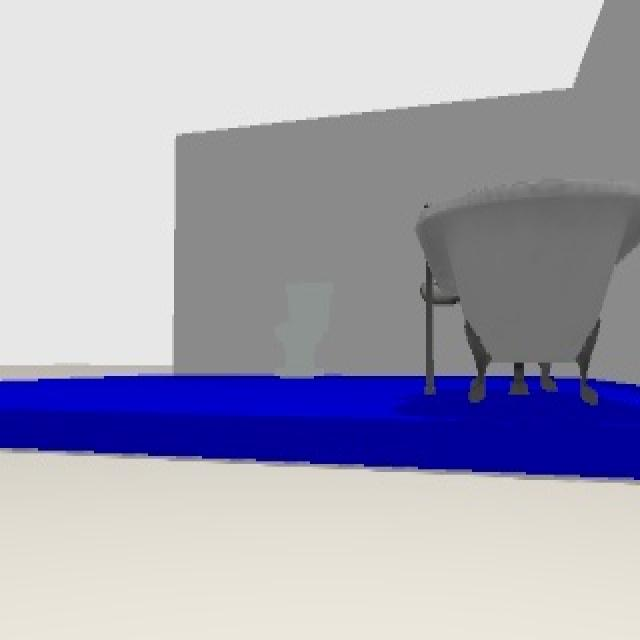bathtub: (414, 179, 638, 408)
